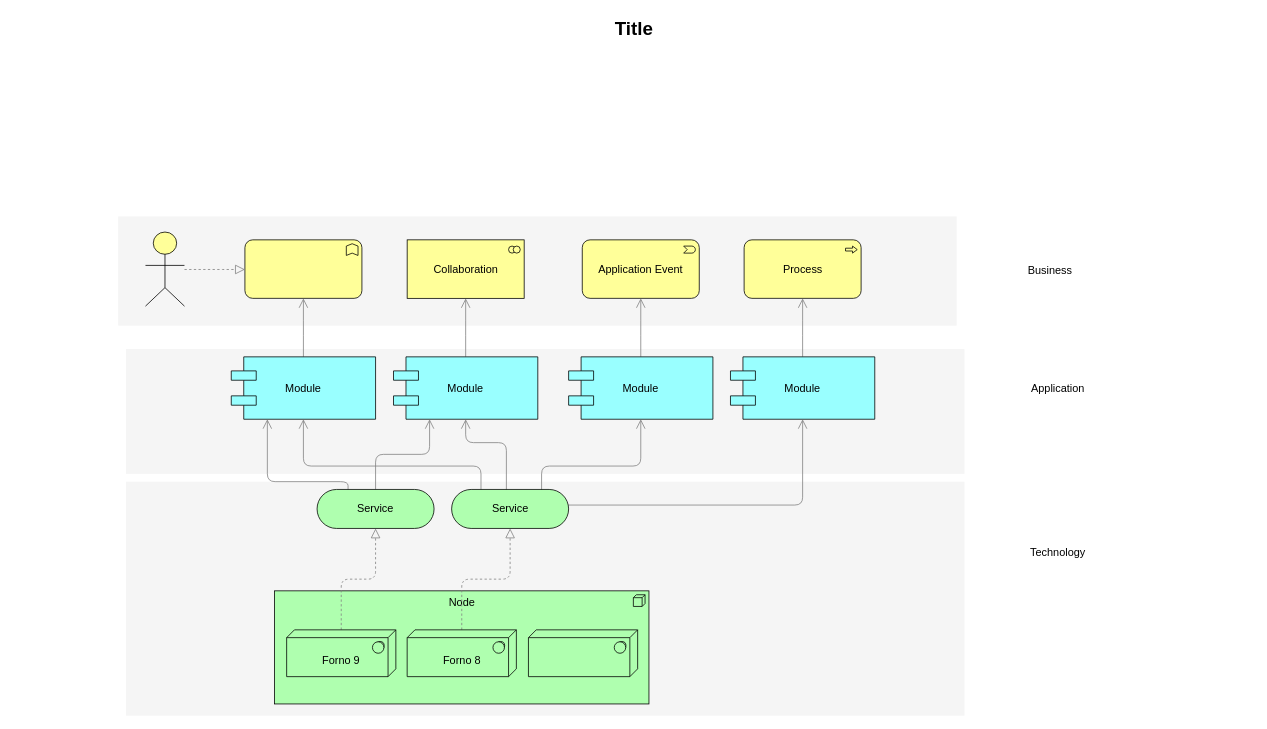
Some shapes in this 1267 by 729 pixel diagram are drawn without their labels. The shapes that lost their labels are listed below. From the top down, each one's box as (x1, y1, x2, y2) in pixels, then its label:
(244, 239, 362, 298): Function
(528, 629, 638, 677): Forno 7
